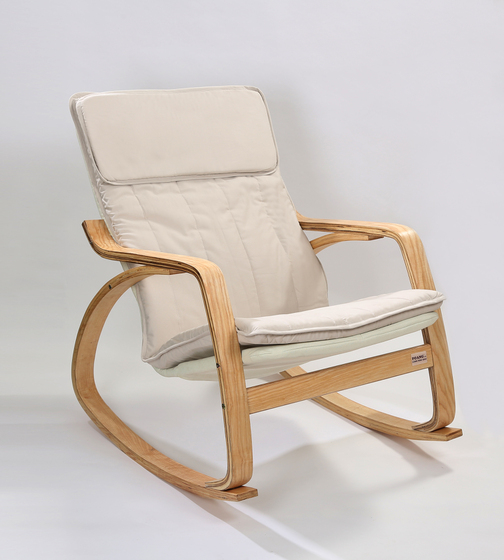seat: (64, 82, 466, 503)
